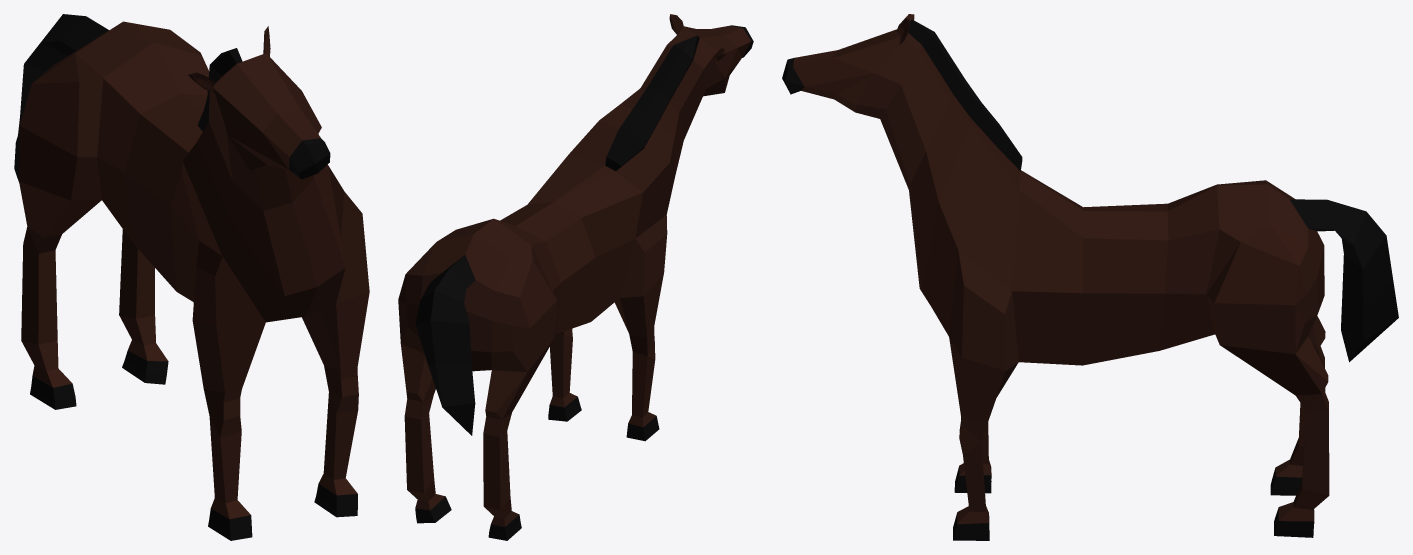
The model's file is Horse_000004.obj.
The picture shows the model from 3 angles, left to right: view 1: azimuth 30°, elevation 25°; view 2: azimuth 150°, elevation 25°; view 3: azimuth 270°, elevation 25°; orthographic projection. The views are drawn at different scales.
Parts seen in each view (by area): view 1: Horse_Cylinder; view 2: Horse_Cylinder; view 3: Horse_Cylinder.
Boxes of the visible parts, box(x1,y1,x2,y2) form: Horse_Cylinder: box(14, 14, 369, 540); Horse_Cylinder: box(398, 14, 753, 540); Horse_Cylinder: box(782, 14, 1398, 540).
Size of the model in its own units: 3.27 by 7.58 by 8.98.
